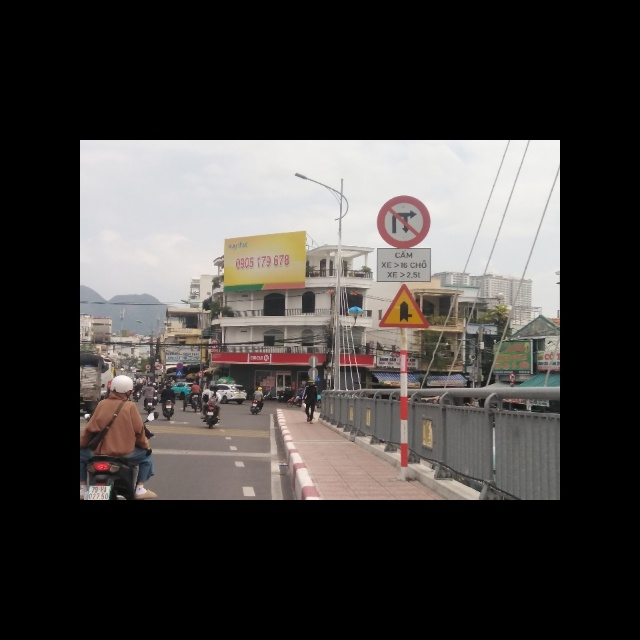Cấm quay đầu và rẽ phải: (375, 195, 432, 248)
Giao nhau với đường không ưu tiên: (377, 283, 432, 328)
